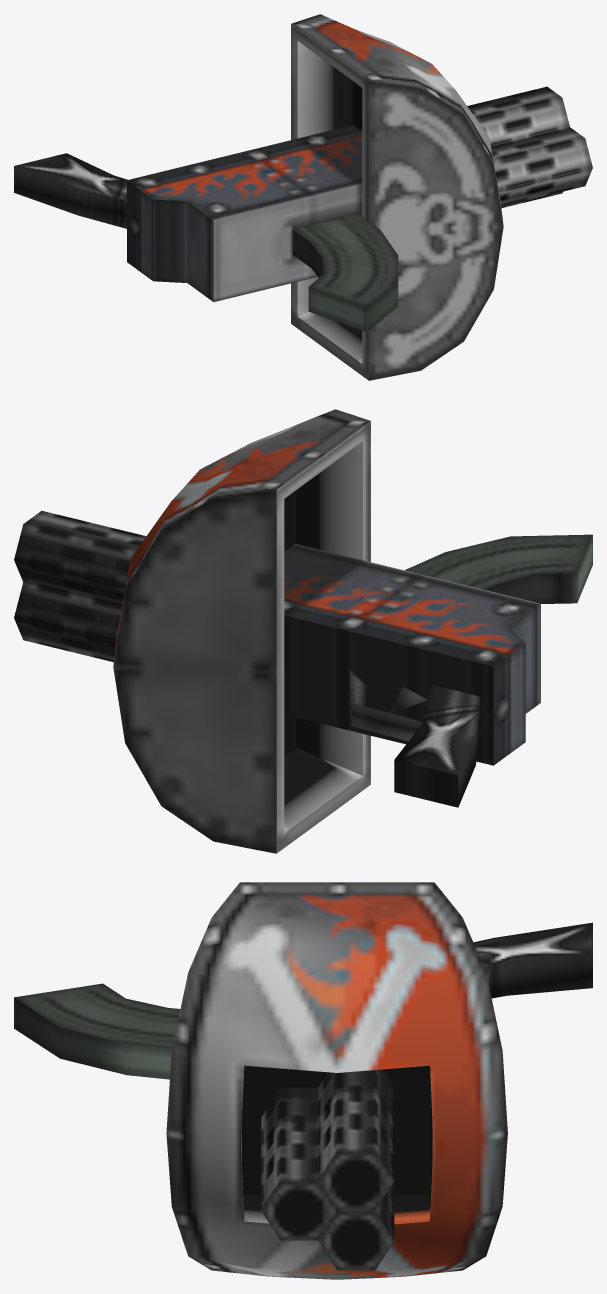
3 renders of one model, top to bottom at view 1: azimuth 30°, elevation 25°; view 2: azimuth 150°, elevation 25°; view 3: azimuth 270°, elevation 25°, orthographic. The views are drawn at different scales.
Parts seen in each view (by area): view 1: deth; view 2: deth; view 3: deth.
Boxes of the visible parts, x1,y1,x2,y2 form: deth: [14, 14, 592, 380]; deth: [14, 409, 592, 853]; deth: [14, 882, 592, 1279].
Size of the model in its own units: 14.1 by 9.06 by 12.7.
1 material, 1 textured.
